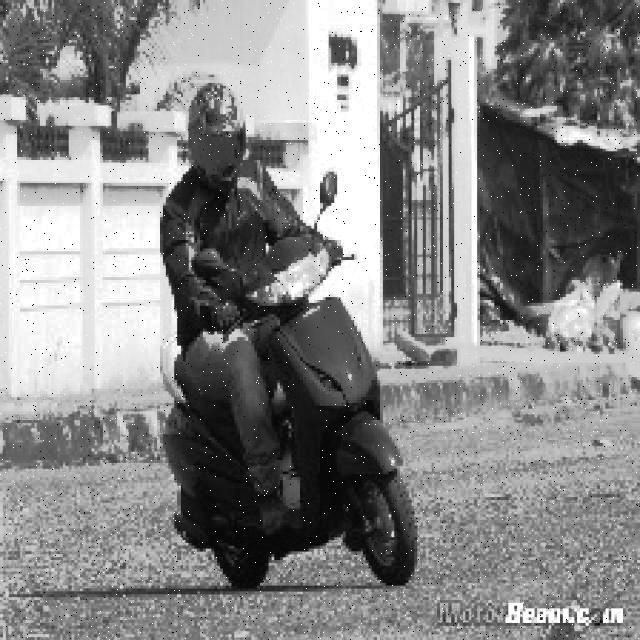Bike: (159, 243, 429, 593)
